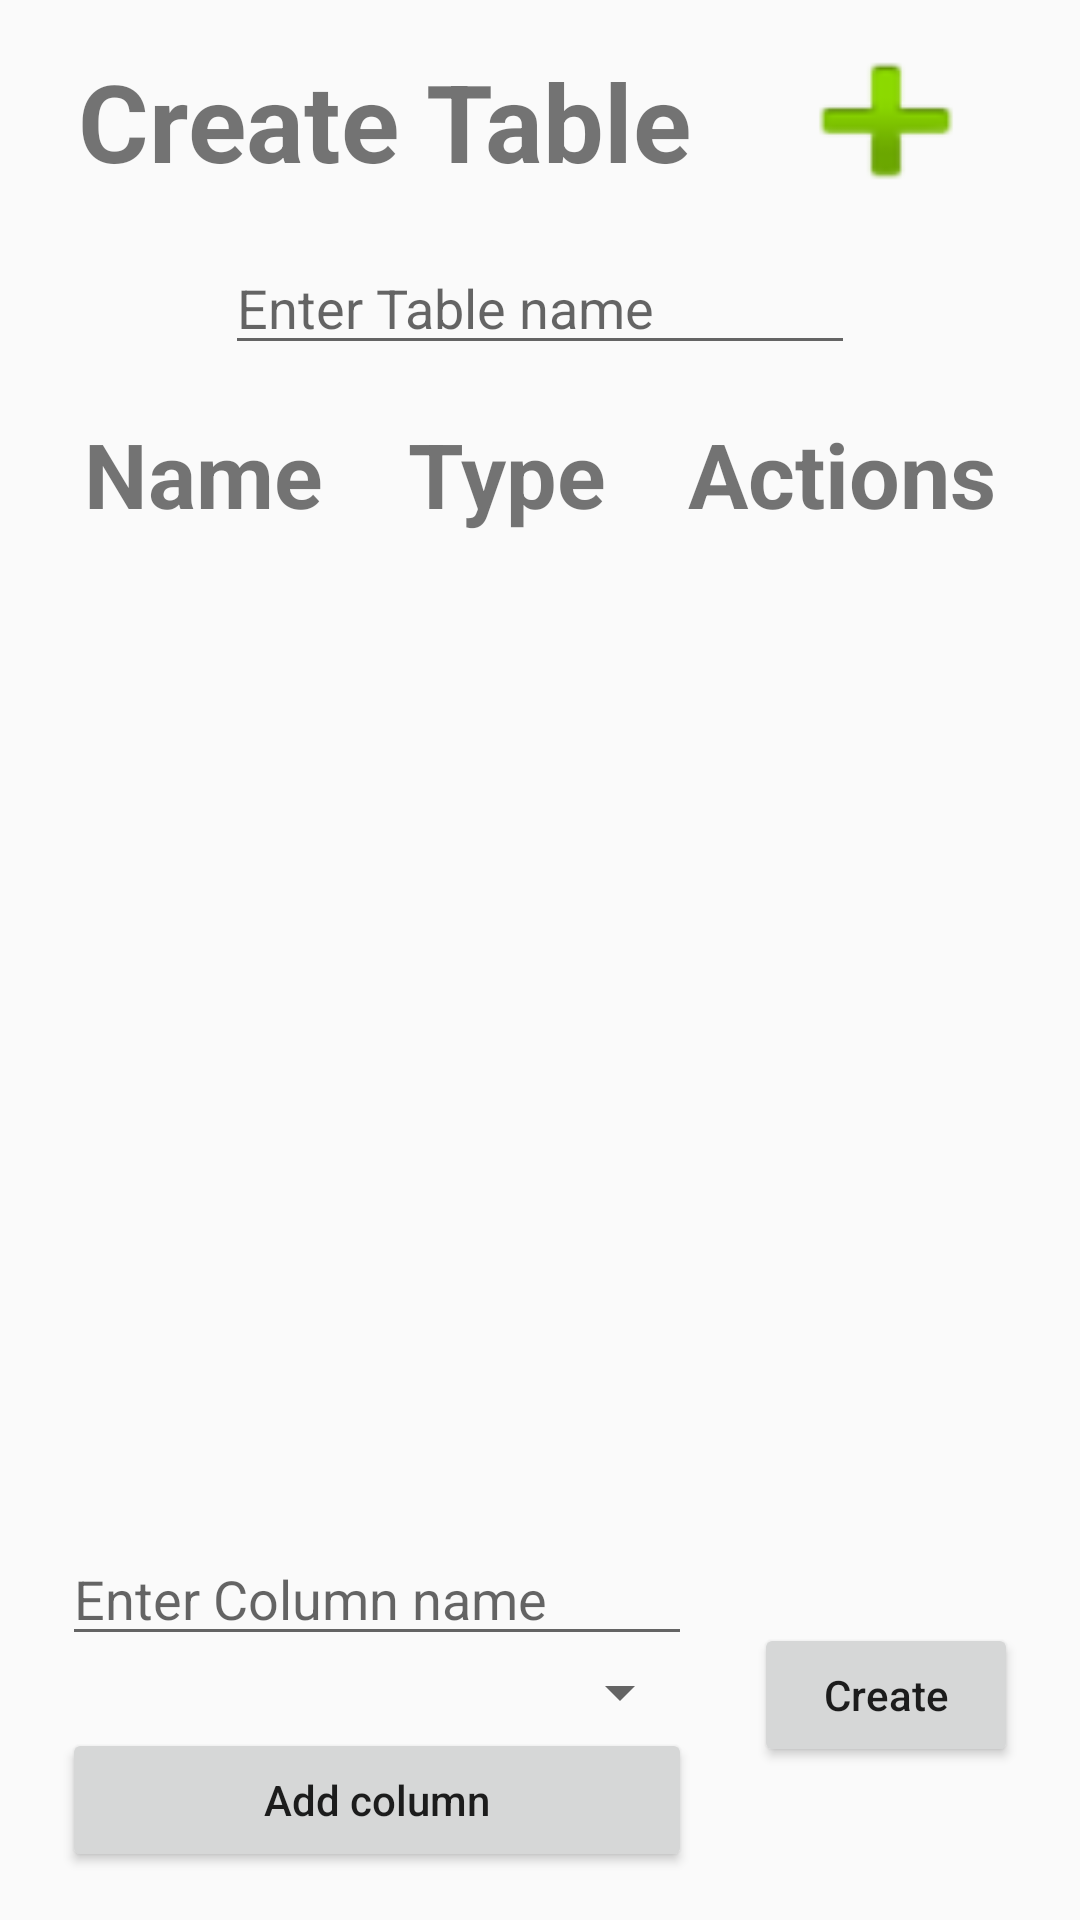

Named icons in this screenshot (1080×1920) and their bounding boxes, (x1, y1, x2, y2):
add: (819, 63, 953, 179)
